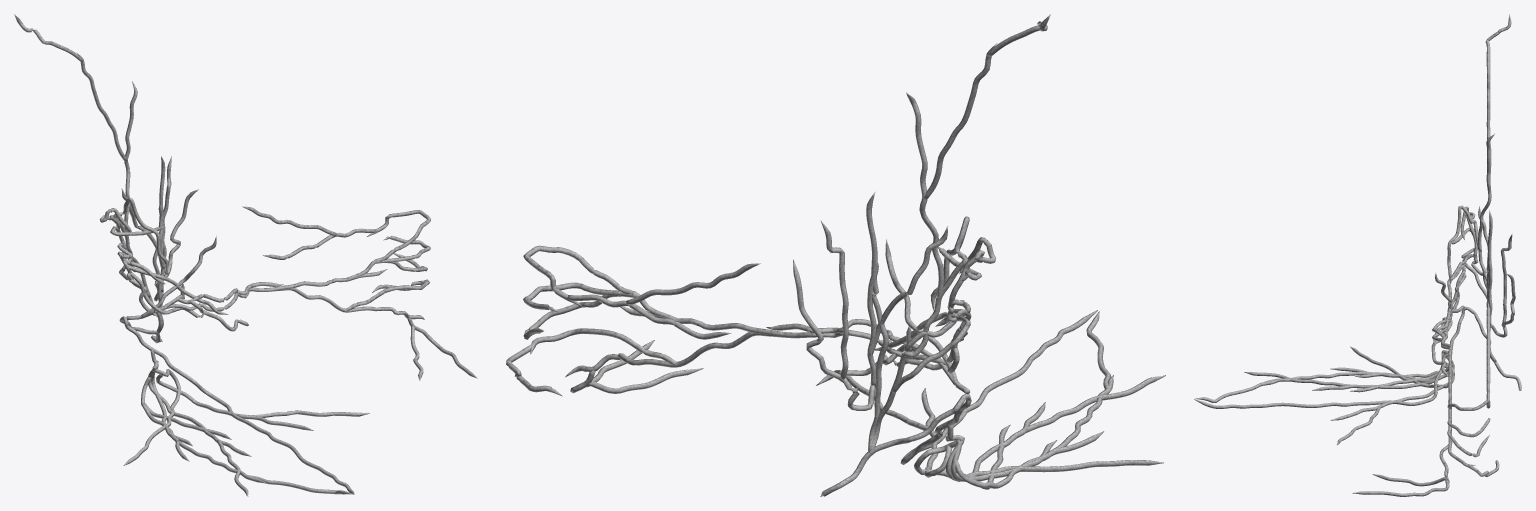
File: SM_Climber_07a.fbx
The picture shows the model from 3 angles, left to right: view 1: azimuth 30°, elevation 25°; view 2: azimuth 150°, elevation 25°; view 3: azimuth 270°, elevation 25°; orthographic projection. The views are drawn at different scales.
Parts seen in each view (by area): view 1: SM_Climber_07a_LOD0; view 2: SM_Climber_07a_LOD0; view 3: SM_Climber_07a_LOD0.
Part boxes in pixels (x1,y1,x2,y2): SM_Climber_07a_LOD0: (14,14,477,496); SM_Climber_07a_LOD0: (506,14,1165,496); SM_Climber_07a_LOD0: (1194,14,1521,496).
Size of the model in its own units: 1117 by 943 by 1044.
